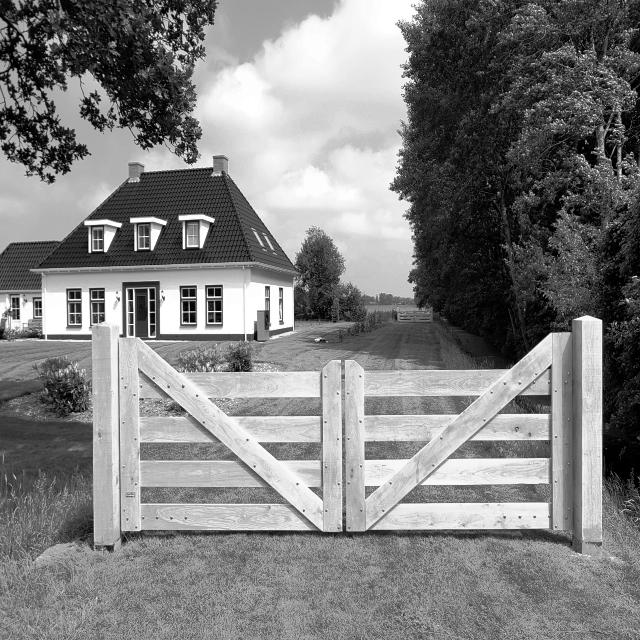fences: (132, 347, 582, 542)
